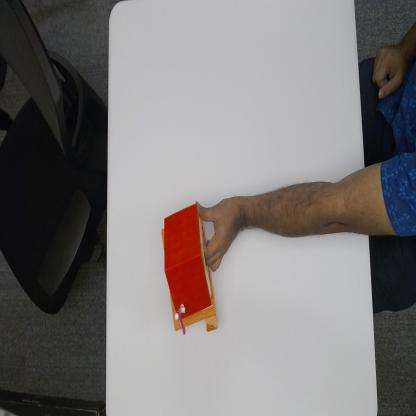Arm: (244, 177, 369, 242)
Hand: (197, 167, 241, 269)
House: (161, 201, 217, 336)
